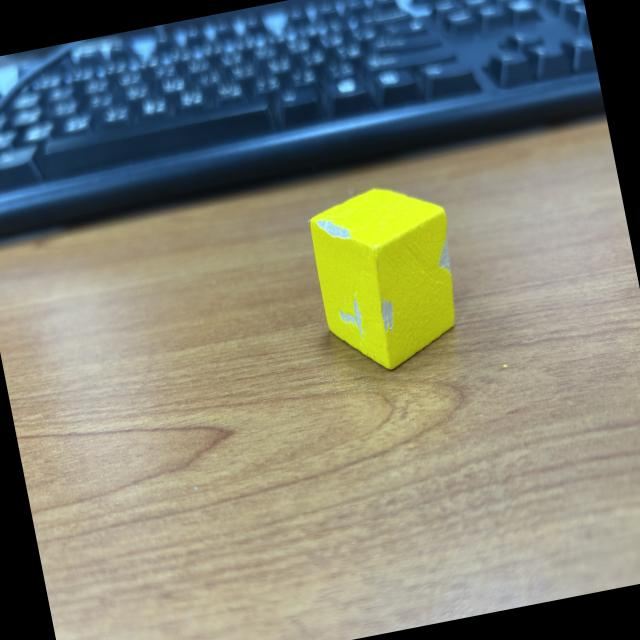broken: (302, 175, 474, 382)
